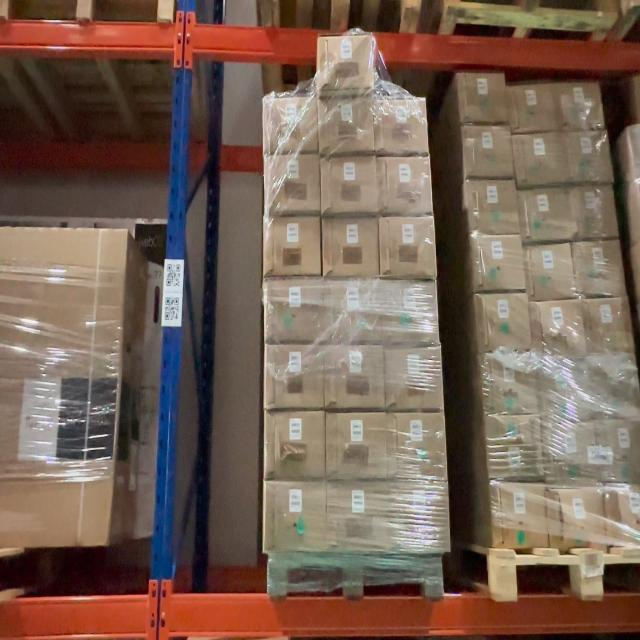box: (264, 480, 326, 550), (327, 482, 388, 550), (266, 411, 326, 478), (327, 411, 386, 479), (389, 482, 447, 550), (265, 344, 324, 409), (265, 276, 324, 340), (388, 413, 443, 479), (385, 346, 441, 410), (325, 346, 384, 406), (382, 280, 437, 342), (325, 280, 379, 342), (264, 216, 320, 273), (264, 153, 320, 210), (323, 216, 378, 274), (493, 484, 544, 545), (322, 156, 376, 213), (319, 94, 373, 150), (491, 415, 539, 477), (378, 156, 431, 212), (318, 34, 372, 88), (382, 217, 432, 274), (264, 96, 316, 150), (552, 488, 600, 546), (534, 301, 578, 364), (474, 234, 520, 292), (480, 293, 526, 351), (547, 423, 593, 481), (377, 98, 425, 153), (592, 354, 634, 416), (541, 365, 586, 422), (523, 188, 569, 242), (600, 418, 640, 479), (486, 356, 531, 410), (519, 133, 562, 186), (513, 84, 558, 134), (471, 180, 515, 230), (570, 187, 613, 238), (461, 72, 504, 122), (579, 241, 619, 294), (588, 299, 628, 352), (528, 245, 569, 295), (565, 132, 606, 182), (466, 128, 509, 174), (562, 83, 598, 128)
